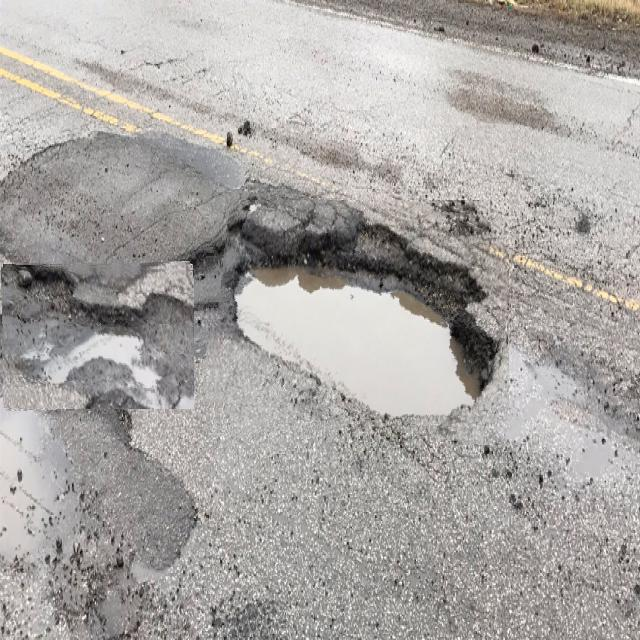Pothole: (206, 200, 509, 434), (2, 263, 194, 409)
